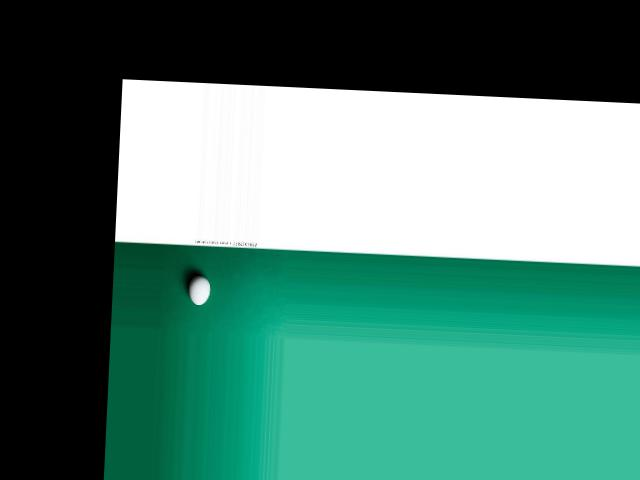egg: (189, 275, 212, 305)
